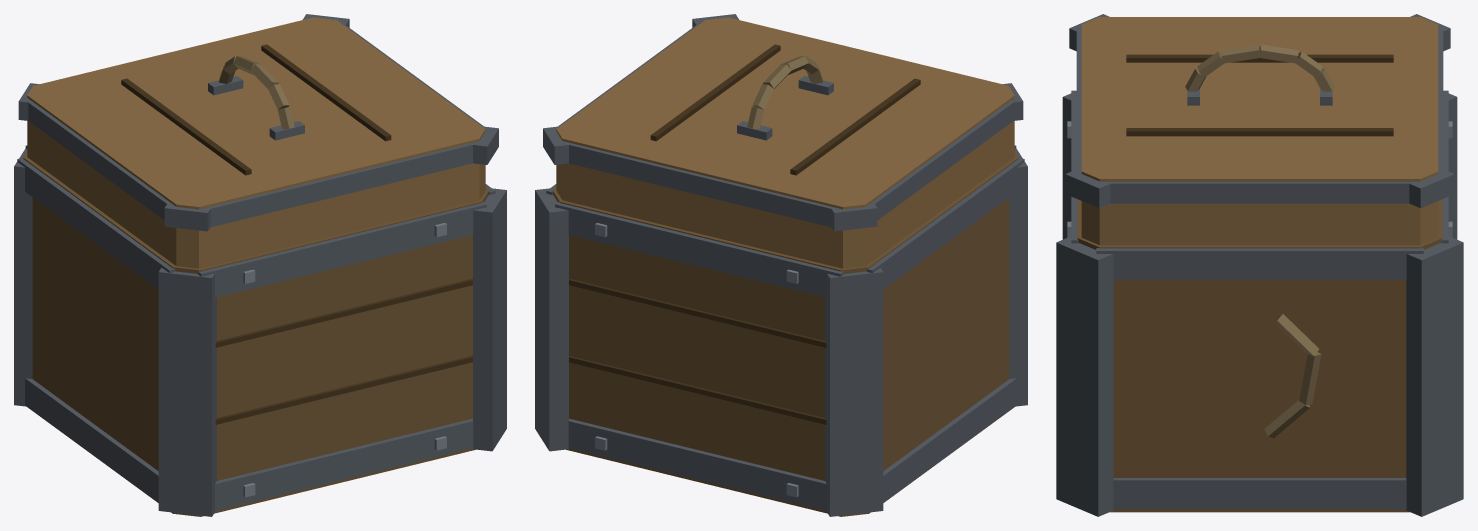
Rendered from mdl_loot_box_wood_v1.glb.
The picture shows the model from 3 angles, left to right: view 1: azimuth 30°, elevation 25°; view 2: azimuth 150°, elevation 25°; view 3: azimuth 270°, elevation 25°; orthographic projection. The views are drawn at different scales.
Visible parts, largest first — view 1: GEO_Chest_Body, GEO_Chest_Iron, GEO_Chest_Trim, GEO_Chest_Rope; view 2: GEO_Chest_Body, GEO_Chest_Iron, GEO_Chest_Trim, GEO_Chest_Rope; view 3: GEO_Chest_Body, GEO_Chest_Iron, GEO_Chest_Rope, GEO_Chest_Trim.
Part boxes in pixels (x1=…): GEO_Chest_Body: x1=23, y1=17, x2=489, y2=516; GEO_Chest_Iron: x1=14, y1=14, x2=506, y2=516; GEO_Chest_Trim: x1=121, y1=44, x2=472, y2=424; GEO_Chest_Rope: x1=219, y1=56, x2=294, y2=129; GEO_Chest_Body: x1=552, y1=17, x2=1018, y2=516; GEO_Chest_Iron: x1=535, y1=14, x2=1027, y2=516; GEO_Chest_Trim: x1=569, y1=44, x2=920, y2=424; GEO_Chest_Rope: x1=747, y1=56, x2=822, y2=129; GEO_Chest_Body: x1=1077, y1=17, x2=1442, y2=512; GEO_Chest_Iron: x1=1056, y1=14, x2=1463, y2=516; GEO_Chest_Rope: x1=1185, y1=44, x2=1334, y2=438; GEO_Chest_Trim: x1=1126, y1=54, x2=1393, y2=136.
Size of the model in its own units: 0.9409 by 0.927 by 0.8921.
